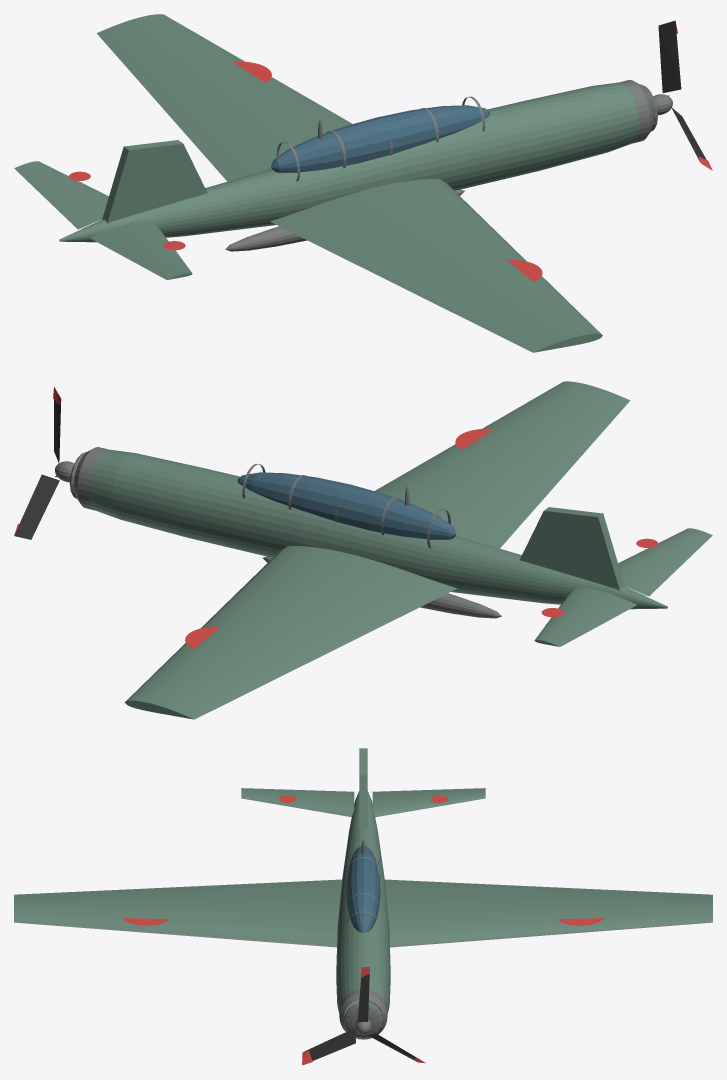
Rendered from b-torpedo-bomber.glb.
3 views of the same model, one above another, from view 1: azimuth 30°, elevation 25°; view 2: azimuth 150°, elevation 25°; view 3: azimuth 270°, elevation 25° (orthographic). The views are drawn at different scales.
Parts seen in each view (by area): view 1: B torpedo-bomber; view 2: B torpedo-bomber; view 3: B torpedo-bomber.
Boxes of the visible parts, x1=… form: B torpedo-bomber: x1=14, y1=14, x2=712, y2=352; B torpedo-bomber: x1=14, y1=381, x2=712, y2=719; B torpedo-bomber: x1=14, y1=748, x2=712, y2=1065.
Size of the model in its own units: 12.34 by 2.59 by 15.1.
